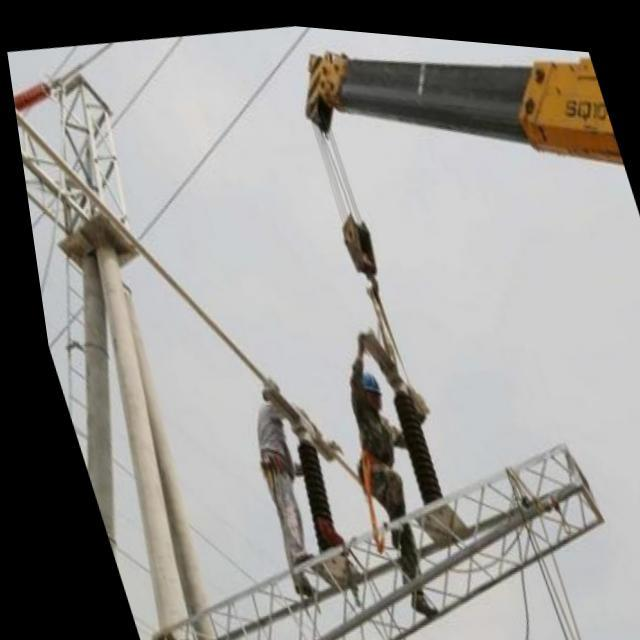belt: (328, 436, 408, 561)
